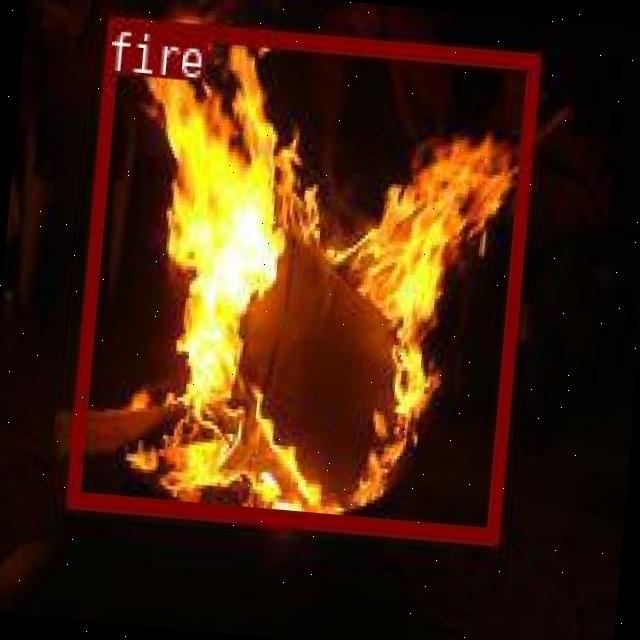fire: (65, 13, 538, 542)
